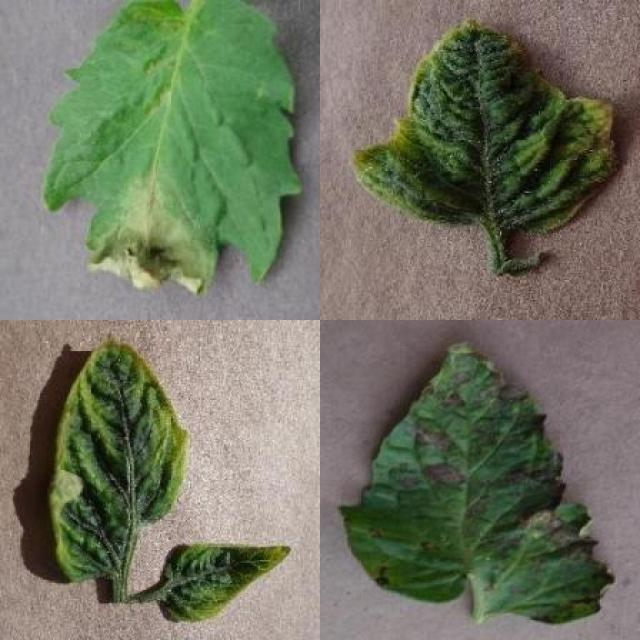Early Blight: (338, 341, 615, 626)
Late Blight: (41, 0, 302, 296)
Yellow Leaf Curl Virus: (350, 18, 617, 235), (49, 333, 187, 584), (167, 540, 294, 626)
